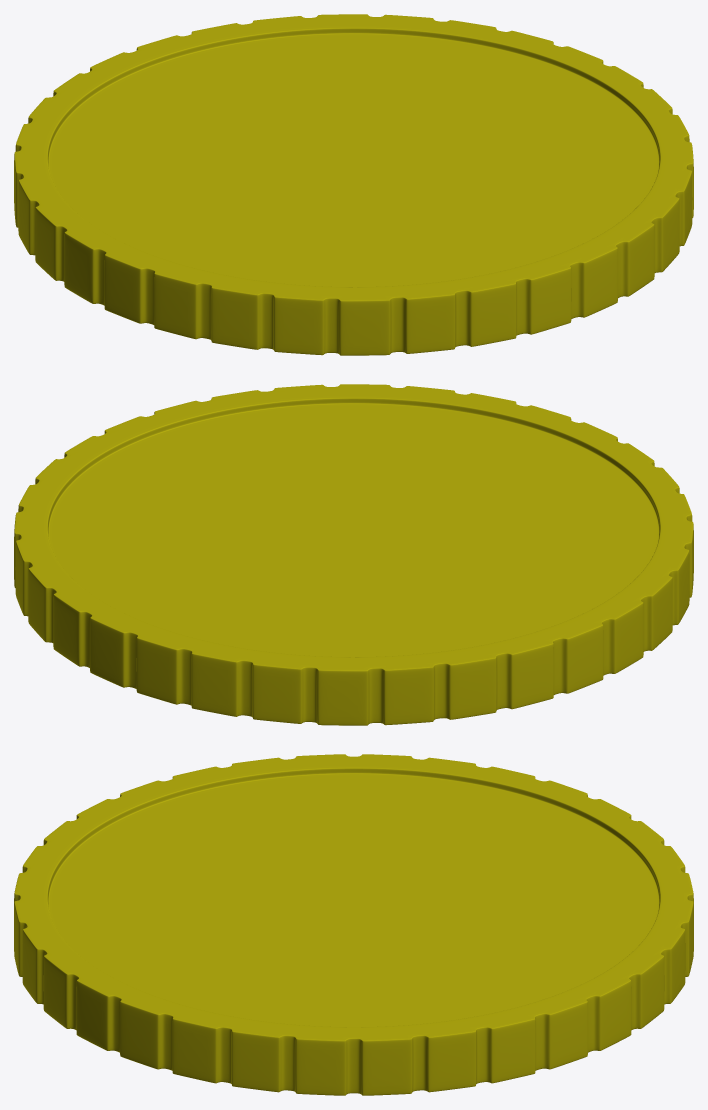
Rendered from coin_high.fbx.
3 views of the same model, one above another, from view 1: azimuth 30°, elevation 25°; view 2: azimuth 150°, elevation 25°; view 3: azimuth 270°, elevation 25° (orthographic).
Visible parts, largest first — view 1: coin_high; view 2: coin_high; view 3: coin_high.
Boxes of the visible parts, x1,y1,x2,y2 form: coin_high: [14, 14, 693, 355]; coin_high: [14, 384, 693, 725]; coin_high: [14, 754, 693, 1095].
Bounding box in the file's own units: 0.0223 × 0.002 × 0.0223.
